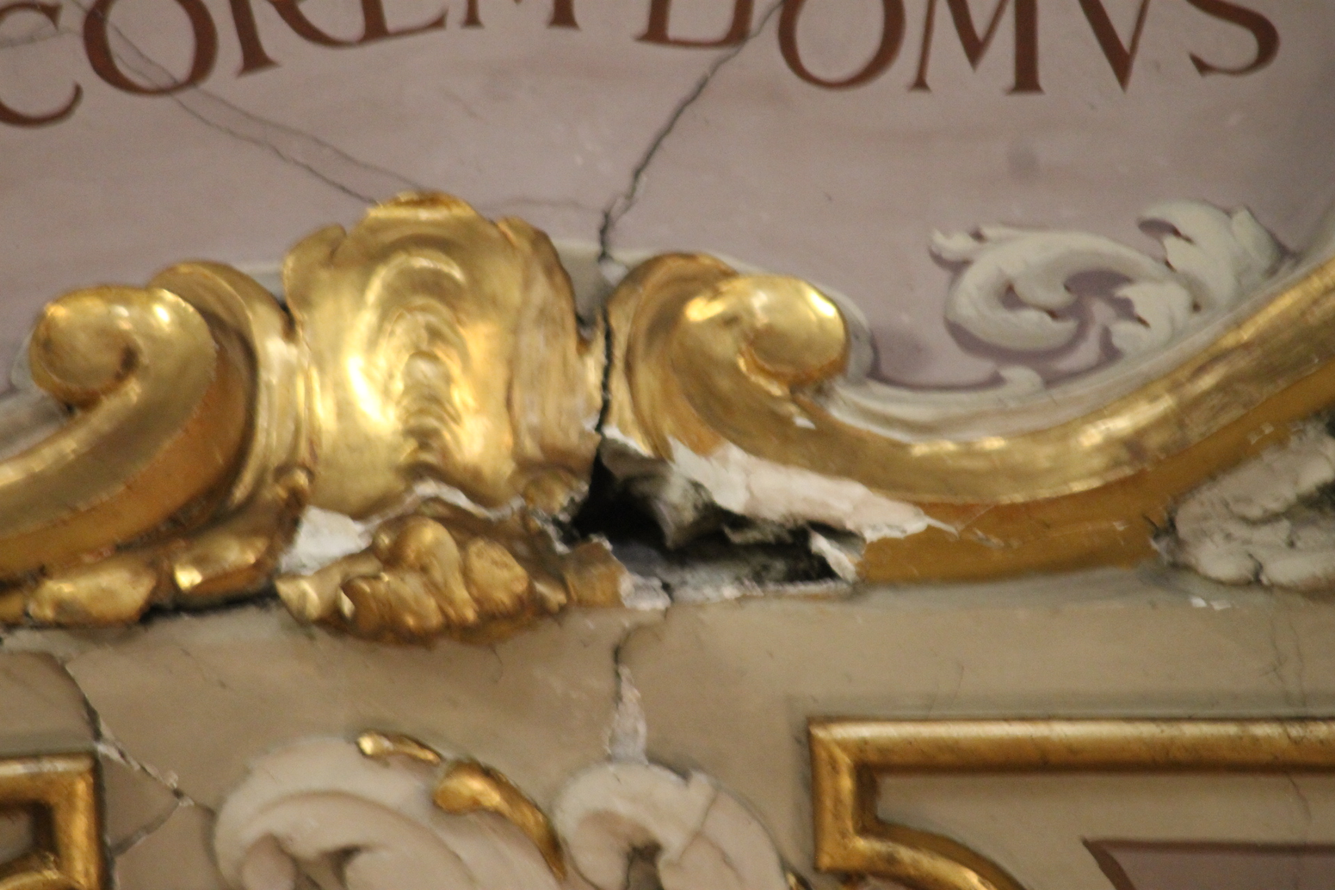Crack: (56, 5, 1253, 853)
